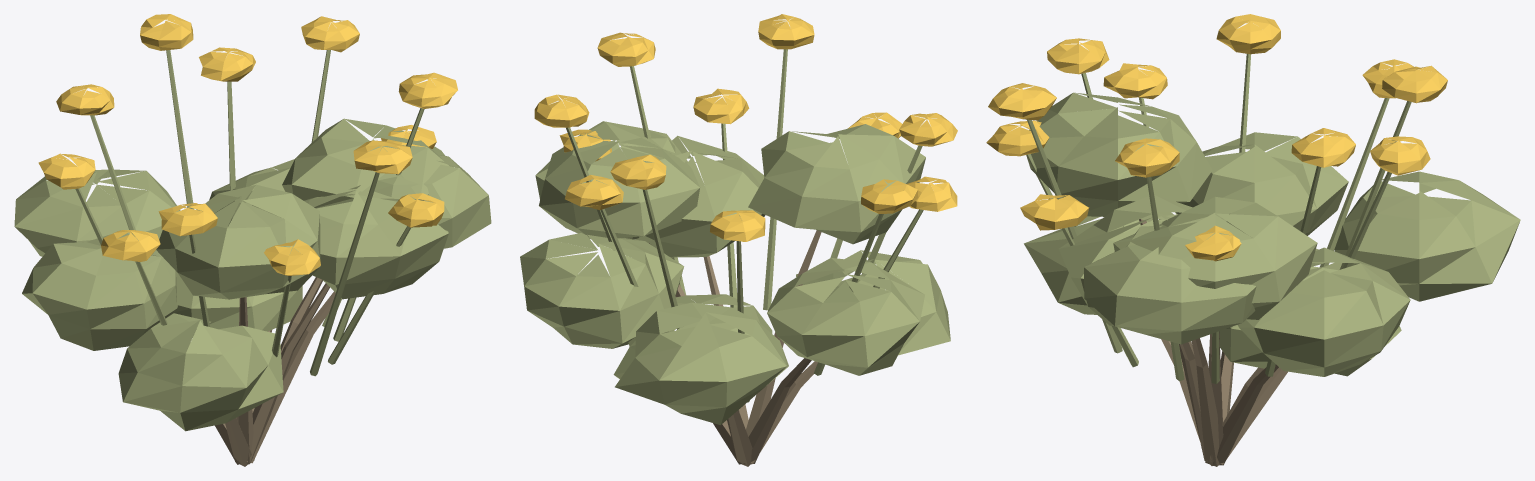
The model's file is desert-canyons-and-oases-brittlebush-dee1142f__21014.glb.
3 views of the same model, side by side, from view 1: azimuth 30°, elevation 25°; view 2: azimuth 150°, elevation 25°; view 3: azimuth 270°, elevation 25° (orthographic). The views are drawn at different scales.
Visible parts, largest first — view 1: brittlebush; view 2: brittlebush; view 3: brittlebush.
Part boxes in pixels (x1,y1,x2,y2): brittlebush: [14, 14, 491, 466]; brittlebush: [520, 14, 957, 466]; brittlebush: [986, 14, 1520, 466].
Size of the model in its own units: 0.8794 by 0.77 by 0.927.
